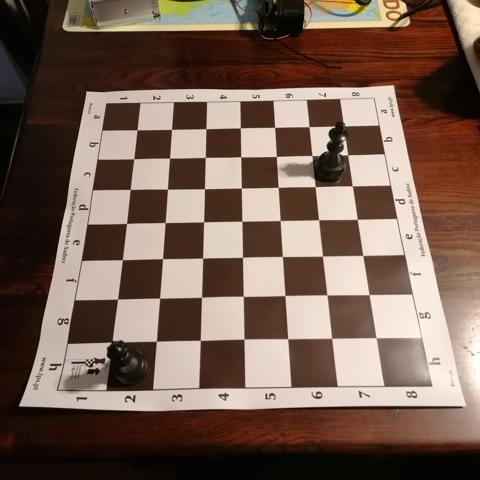xcorner: (164, 121, 180, 137), (340, 147, 356, 163), (269, 148, 285, 164), (126, 150, 142, 166), (345, 178, 361, 194), (308, 178, 324, 194), (271, 179, 287, 195), (273, 212, 289, 228), (118, 214, 134, 230), (154, 250, 170, 266), (320, 288, 336, 304), (151, 290, 167, 306), (325, 332, 341, 348), (103, 334, 119, 350), (336, 119, 352, 134), (302, 119, 317, 135), (267, 120, 283, 135), (233, 120, 248, 136), (130, 122, 146, 137), (233, 149, 249, 164), (198, 149, 213, 165), (162, 150, 178, 165), (234, 179, 249, 195), (197, 180, 212, 196), (160, 180, 175, 196), (351, 211, 366, 227), (234, 213, 250, 228), (196, 213, 211, 229), (157, 214, 173, 229), (356, 248, 372, 263), (316, 248, 331, 264), (275, 249, 291, 264), (235, 249, 250, 265), (194, 250, 210, 265), (236, 289, 251, 305), (193, 290, 209, 305), (370, 331, 385, 347), (281, 332, 296, 348), (236, 333, 252, 348), (192, 333, 207, 349), (147, 334, 163, 349), (199, 121, 214, 136), (305, 148, 320, 163), (123, 181, 138, 196), (312, 212, 327, 227), (114, 251, 129, 266), (363, 288, 378, 303), (278, 289, 293, 304), (109, 291, 124, 306)
